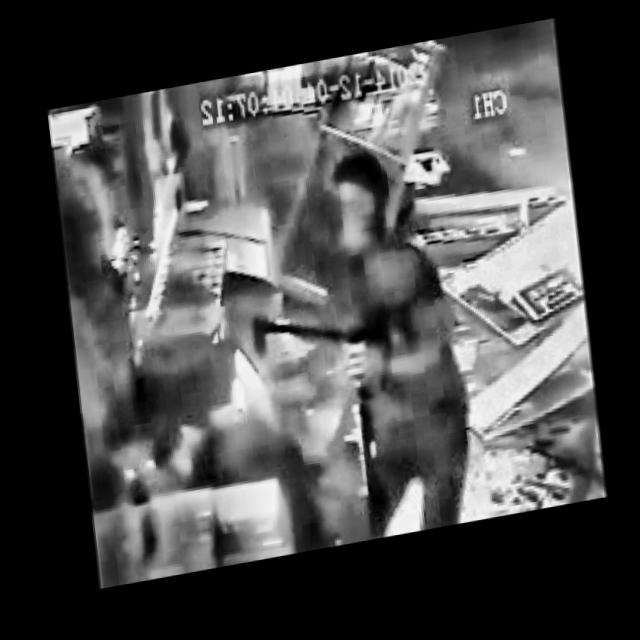burglary: (200, 131, 494, 567)
